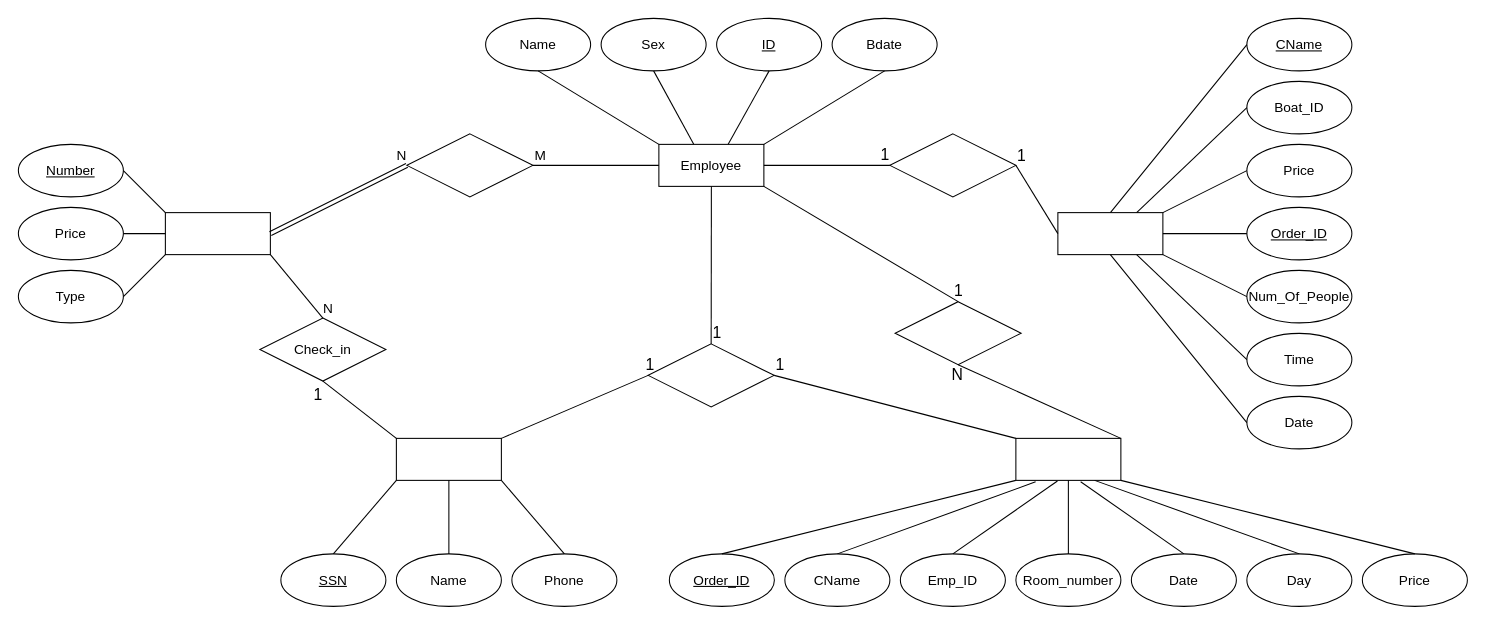
Image size: 1486x625. Some labels were removed from this diagram. The shapes that lost their labels are listed below. From the top down, each one's centre as x and y in pixels, then its label:
At (x=469, y=165): "Serve".
At (x=952, y=165): "Order".
At (x=217, y=233): "Room".
At (x=1110, y=233): "Boat_Ticket".
At (x=957, y=333): "manage".
At (x=710, y=375): "Check".
At (x=448, y=458): "Customer".
At (x=1068, y=458): "Orders".
